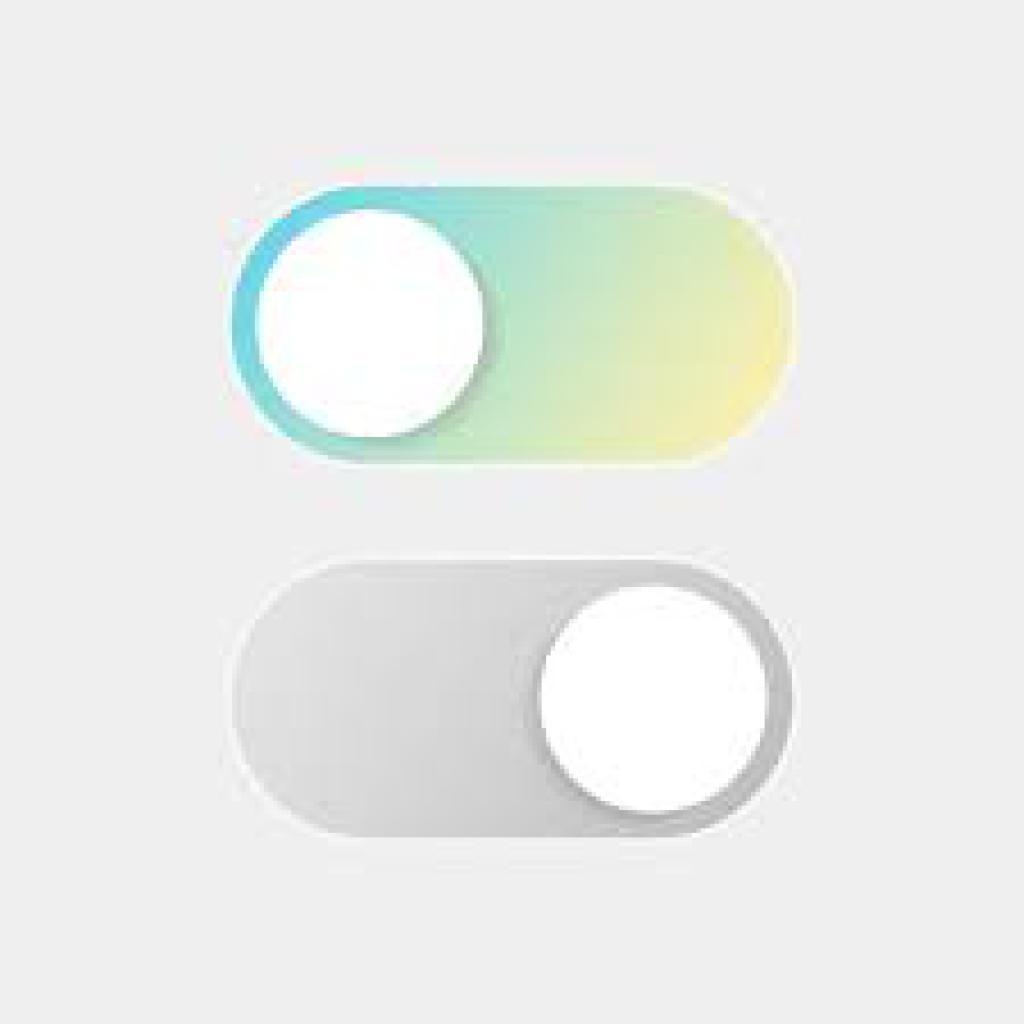switch: (227, 182, 801, 471), (227, 558, 797, 845)
